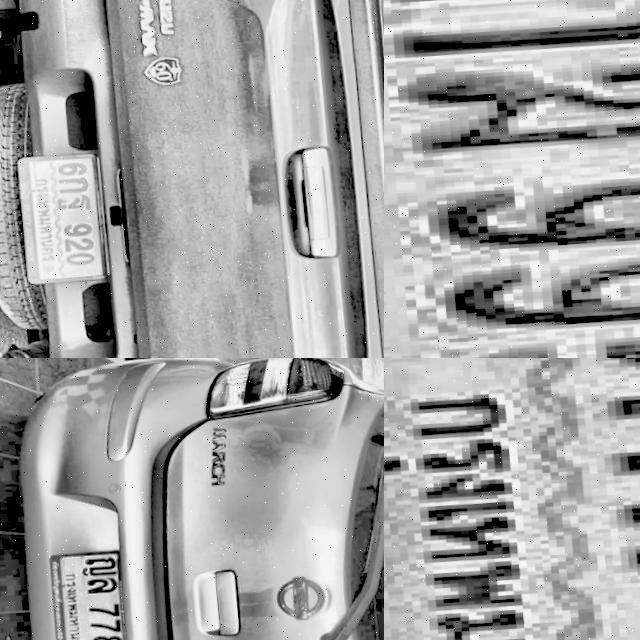license-plate: (384, 0, 640, 358), (384, 358, 640, 640), (6, 154, 105, 288), (31, 546, 129, 640)
